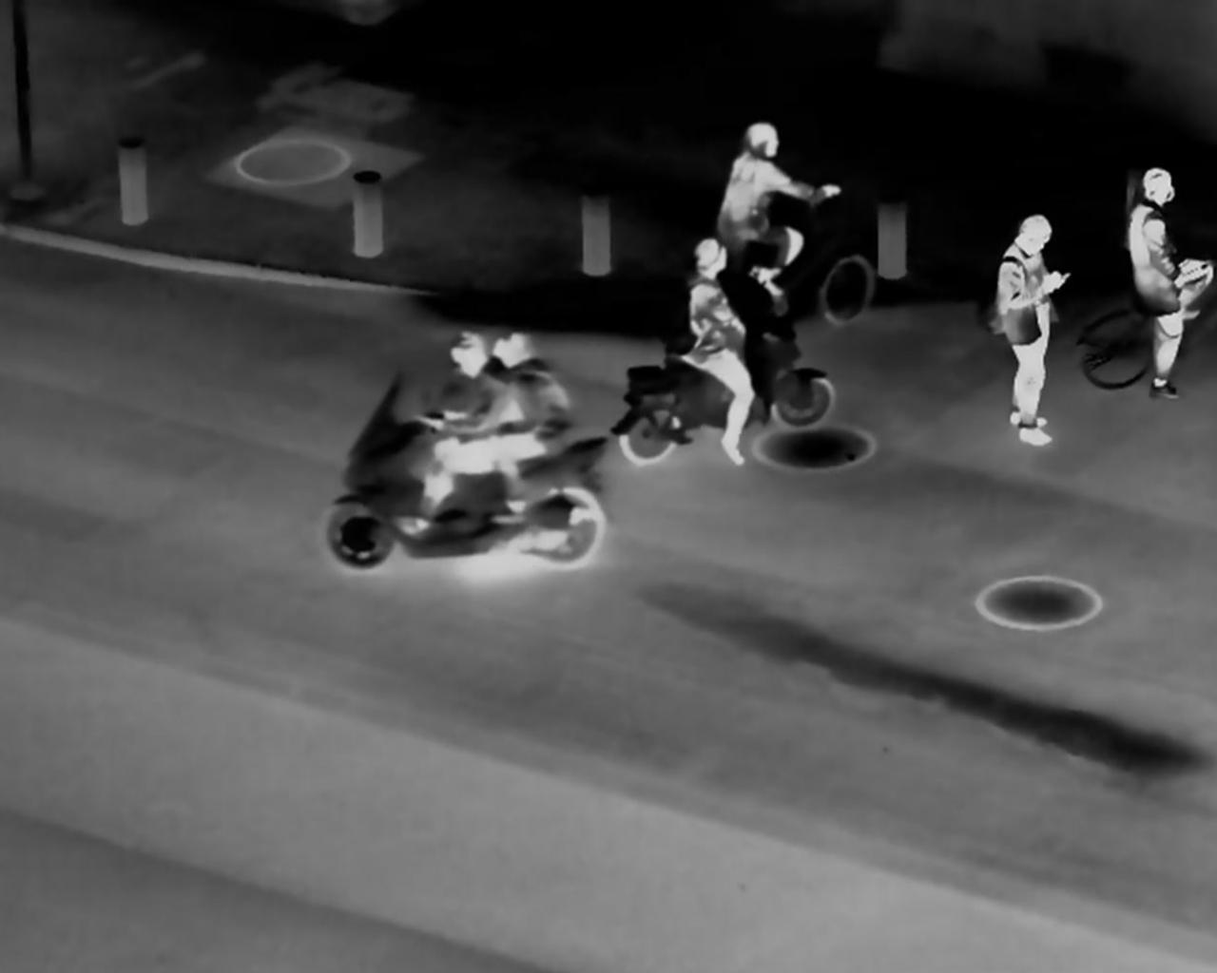person: (980, 181, 1076, 454), (704, 108, 821, 311), (480, 294, 586, 498), (1116, 158, 1207, 395), (414, 322, 512, 530), (658, 245, 746, 466), (722, 228, 813, 402)
